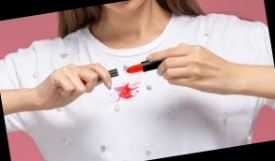lipstick: (114, 83, 139, 104)
